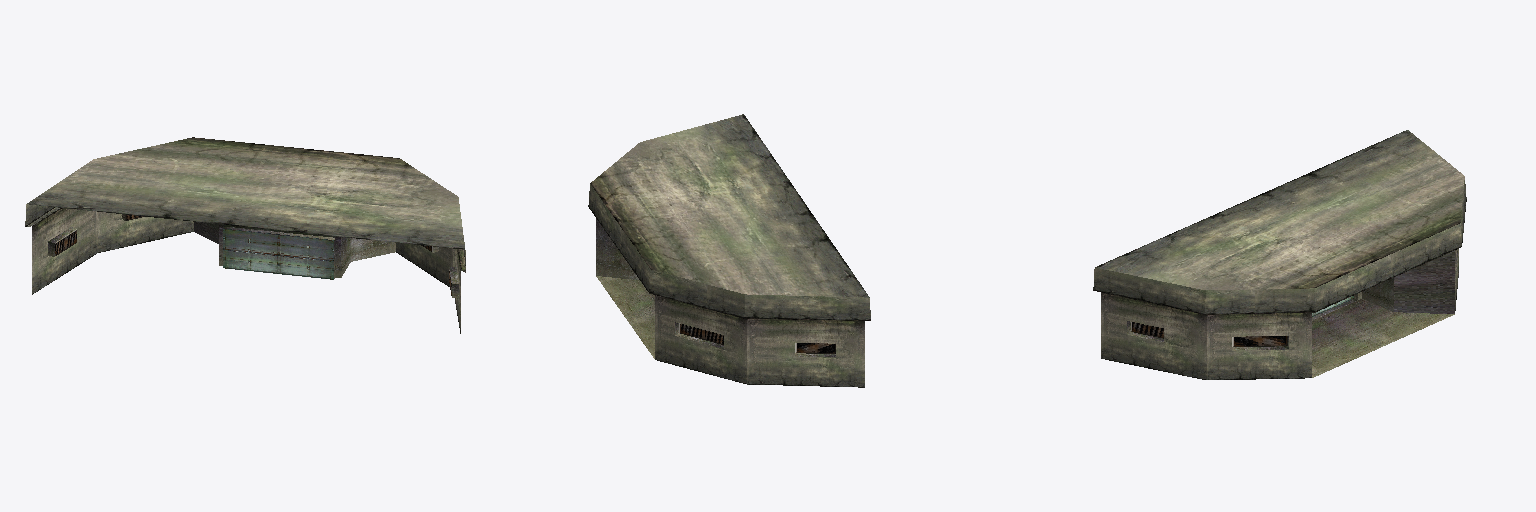
The picture shows the model from 3 angles: view 1: azimuth 30°, elevation 25°; view 2: azimuth 150°, elevation 25°; view 3: azimuth 270°, elevation 25°; orthographic projection.
Bounding box in the file's own units: 424 × 112 × 411.
Materials: 5 (5 with a texture image).